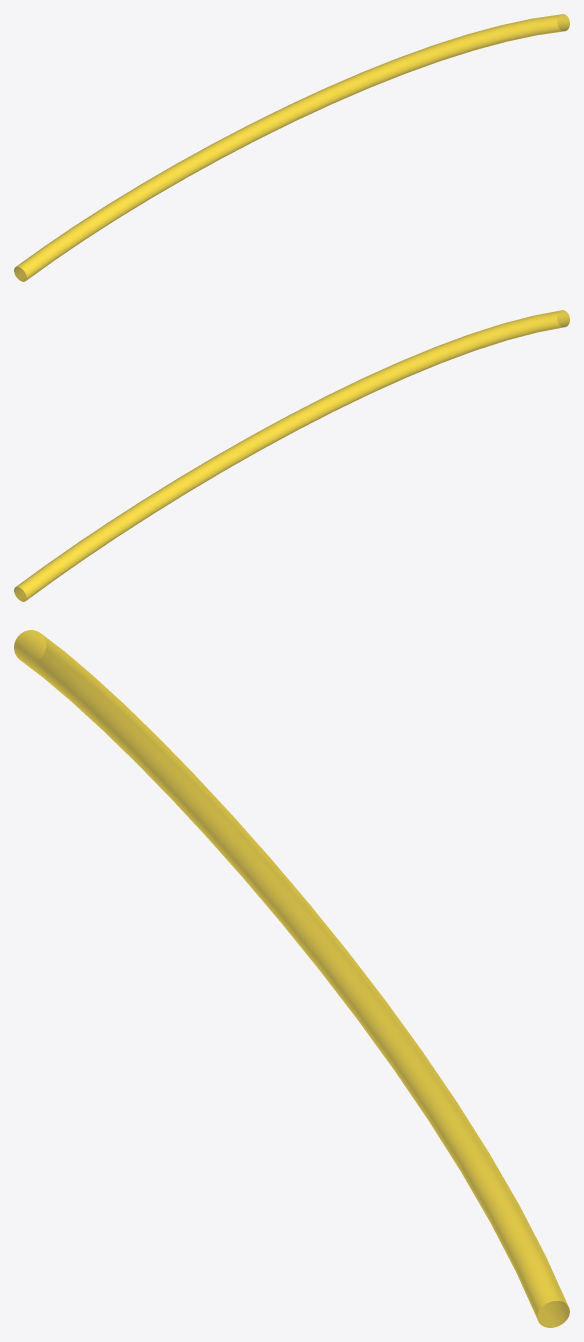
The model's file is Event_402970704_track_55.fbx.
3 views of the same model, one above another, from view 1: azimuth 30°, elevation 25°; view 2: azimuth 210°, elevation 25°; view 3: azimuth 270°, elevation 25° (orthographic). The views are drawn at different scales.
Visible parts, largest first — view 1: Model; view 2: Model; view 3: Model.
Boxes of the visible parts, x1,y1,x2,y2 form: Model: (14, 14, 569, 281); Model: (14, 310, 569, 601); Model: (14, 630, 569, 1327).
Bounding box in the file's own units: 1.81 × 0.1426 × 0.6552.
